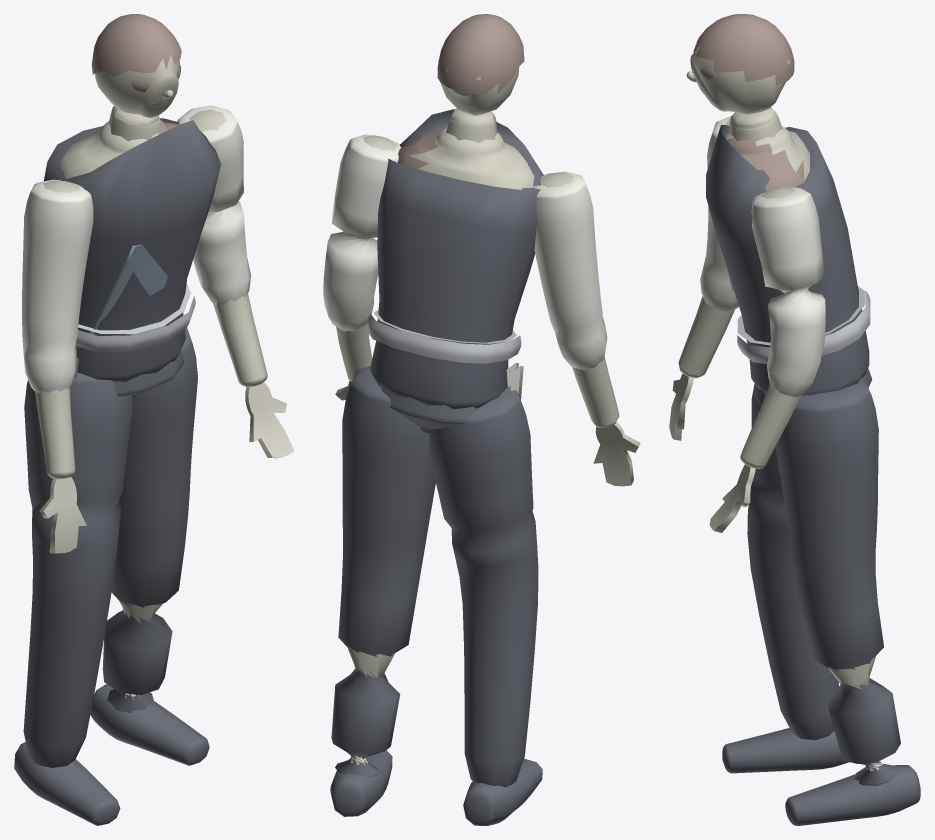
File: undead-horde-and-infected-variants-walker-garage-mecha-ce9ab7d3__11981.glb
The picture shows the model from 3 angles, left to right: view 1: azimuth 30°, elevation 25°; view 2: azimuth 150°, elevation 25°; view 3: azimuth 270°, elevation 25°; orthographic projection. The views are drawn at different scales.
Parts seen in each view (by area): view 1: walker-garage-mechanic; view 2: walker-garage-mechanic; view 3: walker-garage-mechanic.
Part boxes in pixels (bbox=[...]): walker-garage-mechanic: bbox=[14, 14, 294, 825]; walker-garage-mechanic: bbox=[323, 14, 640, 825]; walker-garage-mechanic: bbox=[669, 14, 920, 825].
Bounding box in the file's own units: 0.6412 × 1.73 × 0.5099.
